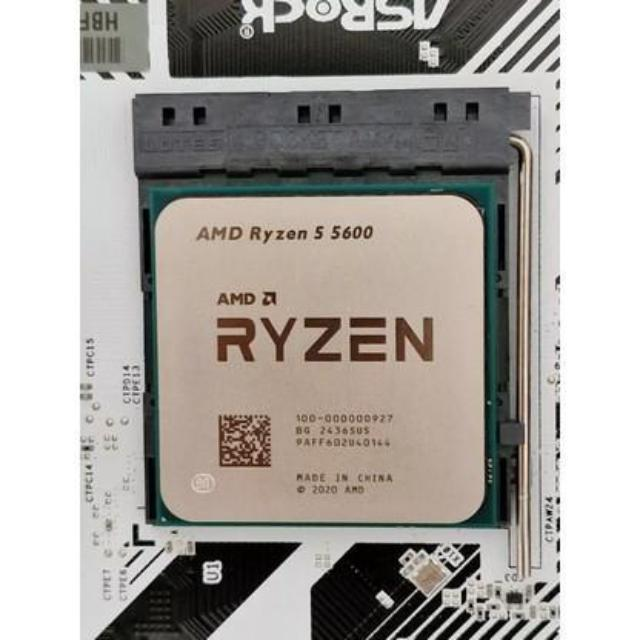CPU: (149, 193, 489, 518)
